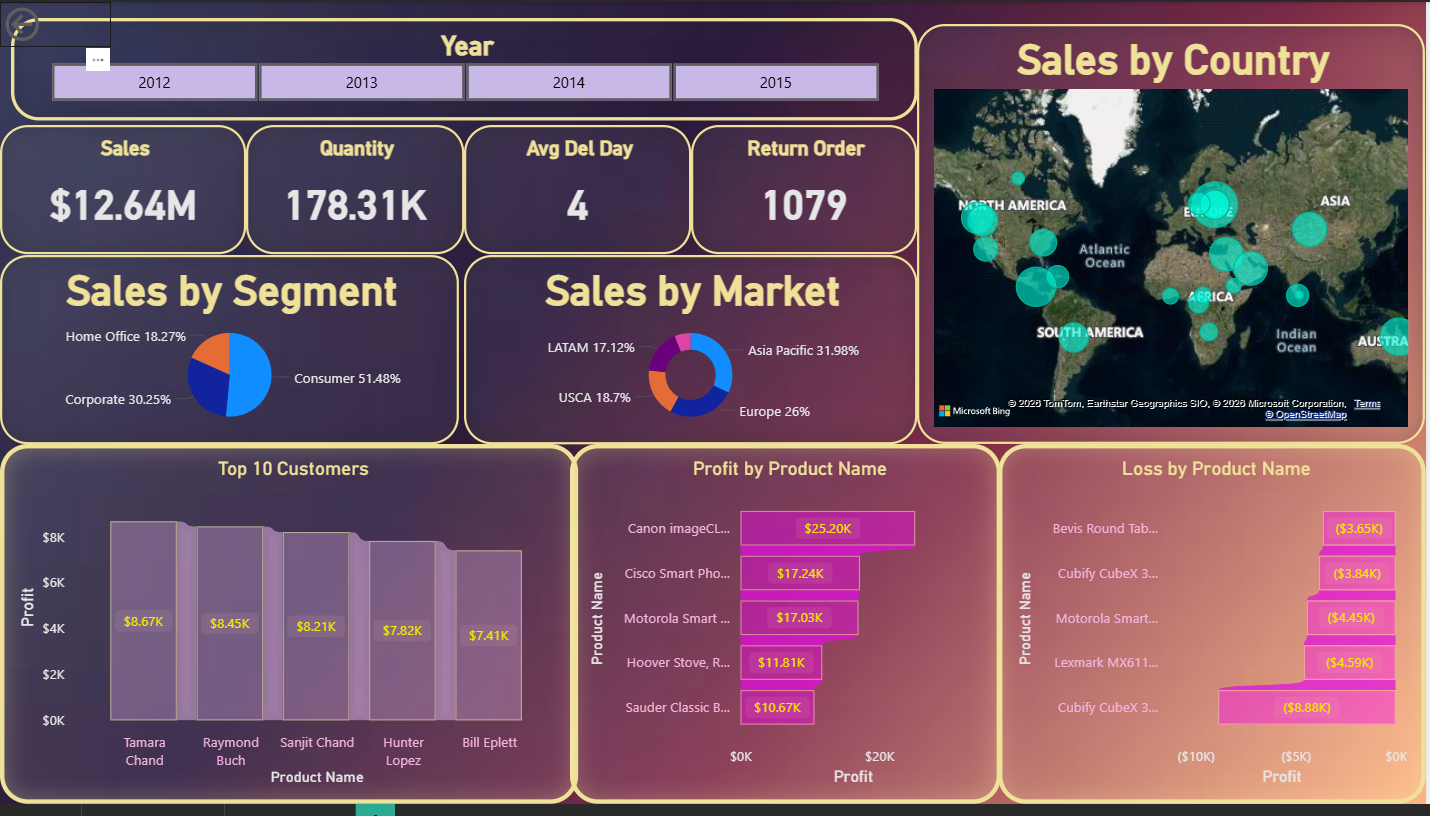

This screenshot's page, from the dashboard's own definition file:
{"tool":"powerbi","page":{"name":"Sales Dashboard","canvas":[1280,720],"ordinal":2},"visuals":[{"type":"card","title":"Sales","fields":{"Values":["Sum(Orders.Sales)"]},"box":[0,110.6,221.1,116.2],"z":0},{"type":"card","title":"Quantity","fields":{"Values":["Sum(Orders.Quantity)"]},"box":[221.1,110.6,195.6,116.2],"z":1000},{"type":"card","title":"Avg Del Day","fields":{"Values":["Avg(Orders.Delivery_Days)"]},"box":[416.7,110.6,204.1,116.2],"z":2000},{"type":"slicer","title":"Year","fields":{"Values":["Orders.Year"]},"box":[9.9,14.2,813.5,92.1],"z":3000},{"type":"card","title":"Return Order","fields":{"Values":["Sum(Returns.Returned_Orders)"]},"box":[620.8,110.6,202.7,116.2],"z":4000},{"type":"map","title":"Sales by Country","fields":{"Category":["Orders.Region"],"Size":["Sum(Orders.Sales)"]},"box":[823.5,19.8,456.4,377],"z":5000},{"type":"actionButton","box":[0,0,100,40],"z":6000},{"type":"barChart","title":"Profit by Product Name","fields":{"Category":["Orders.Product Name"],"Y":["Sum(Orders.Profit)"]},"box":[511.7,396.9,386.9,323.1],"z":7000},{"type":"barChart","title":"Loss by Product Name","fields":{"Category":["Orders.Product Name"],"Y":["Sum(Orders.Profit)"]},"box":[895.7,396.9,384.1,323.1],"z":8000},{"type":"pieChart","title":"Sales by Segment","fields":{"Category":["Orders.Segment"],"Y":["Sum(Orders.Sales)"]},"box":[0,226.8,412.4,170.1],"z":9000},{"type":"donutChart","title":"Sales by Market","fields":{"Y":["Sum(Orders.Sales)"],"Category":["Orders.Market"]},"box":[416.7,226.8,406.8,170.1],"z":10000},{"type":"columnChart","title":"Top 10 Customers","fields":{"Category":["Orders.Customer Name"],"Y":["Sum(Orders.Profit)"]},"box":[0,396.9,518.7,323.1],"z":11000}]}

Visuals, with their boxes in screenshot pixels (x1, y1, x2, y2), scaled from the page's 1280x720 canvas onto the 1430x816 screenshot:
"Sales" card: (left=0, top=125, right=247, bottom=257)
"Quantity" card: (left=247, top=125, right=466, bottom=257)
"Avg Del Day" card: (left=466, top=125, right=694, bottom=257)
"Year" slicer: (left=11, top=16, right=920, bottom=120)
"Return Order" card: (left=694, top=125, right=920, bottom=257)
"Sales by Country" map: (left=920, top=22, right=1429, bottom=450)
actionButton: (left=0, top=0, right=112, bottom=45)
"Profit by Product Name" barChart: (left=572, top=450, right=1004, bottom=815)
"Loss by Product Name" barChart: (left=1001, top=450, right=1429, bottom=815)
"Sales by Segment" pieChart: (left=0, top=257, right=461, bottom=450)
"Sales by Market" donutChart: (left=466, top=257, right=920, bottom=450)
"Top 10 Customers" columnChart: (left=0, top=450, right=579, bottom=815)
